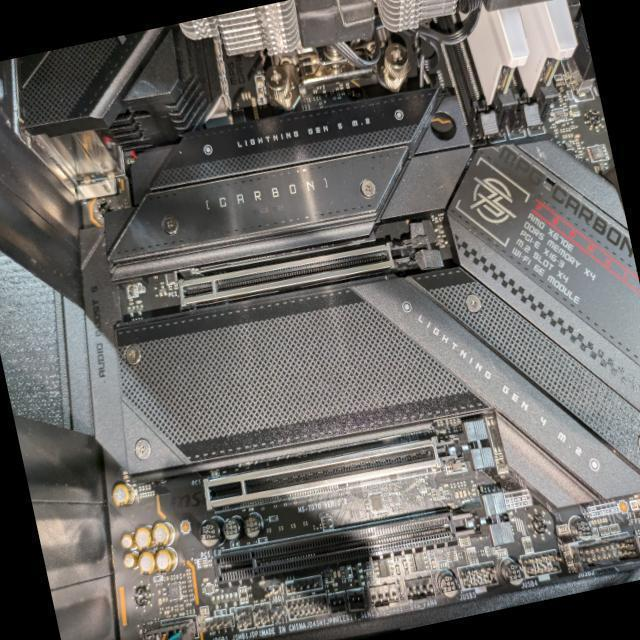Mainboard: (21, 83, 640, 640)
